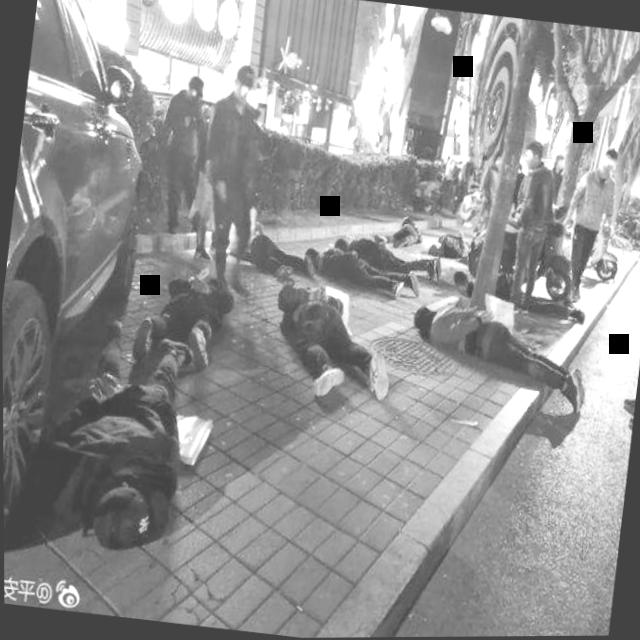Fall-Detected: (226, 197, 322, 292)
